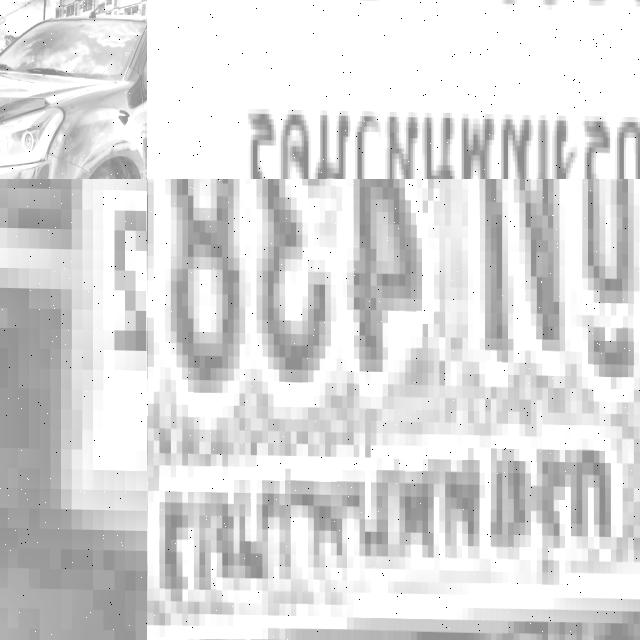license-plate: (147, 179, 640, 640), (147, 0, 640, 179), (0, 179, 147, 640)
